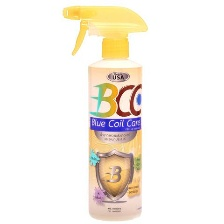cleaning_solution: (60, 1, 149, 223)
